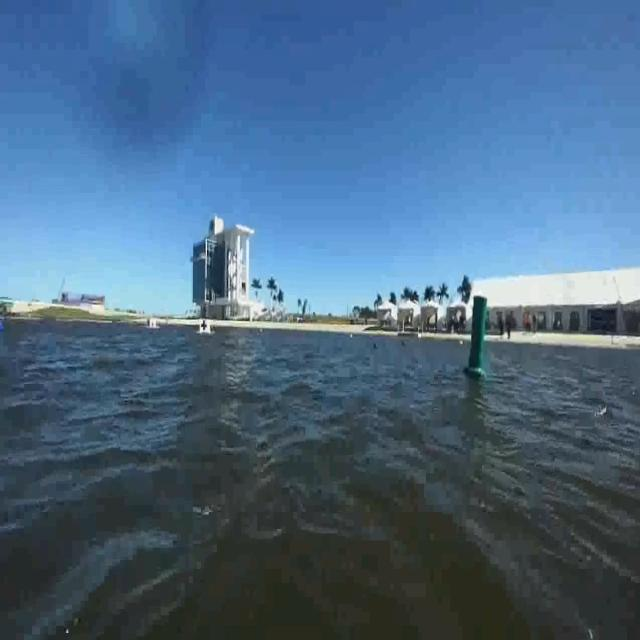green-column-buoy: (464, 294, 490, 379)
